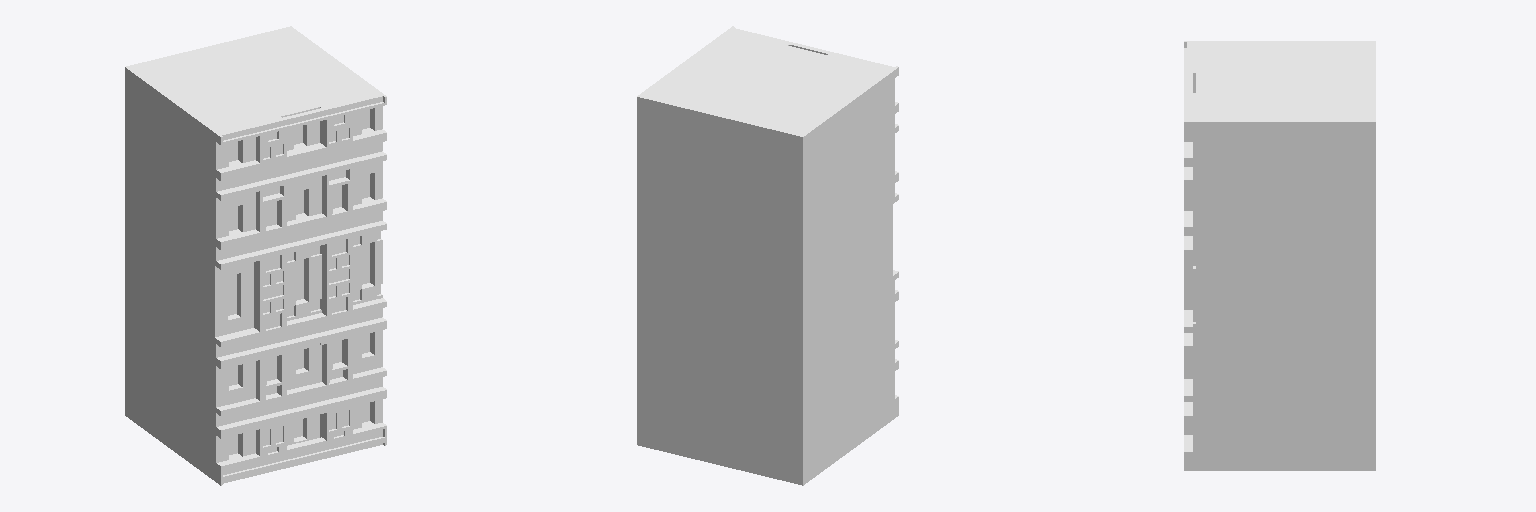
Rendered from APTS.obj.
The picture shows the model from 3 angles: view 1: azimuth 30°, elevation 25°; view 2: azimuth 150°, elevation 25°; view 3: azimuth 270°, elevation 25°; orthographic projection.
Bounding box in the file's own units: 63 × 126 × 63.